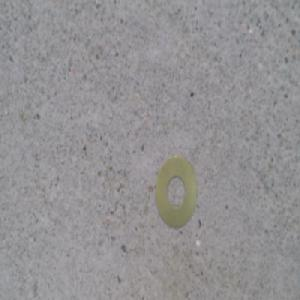Washer: (154, 151, 197, 226)
